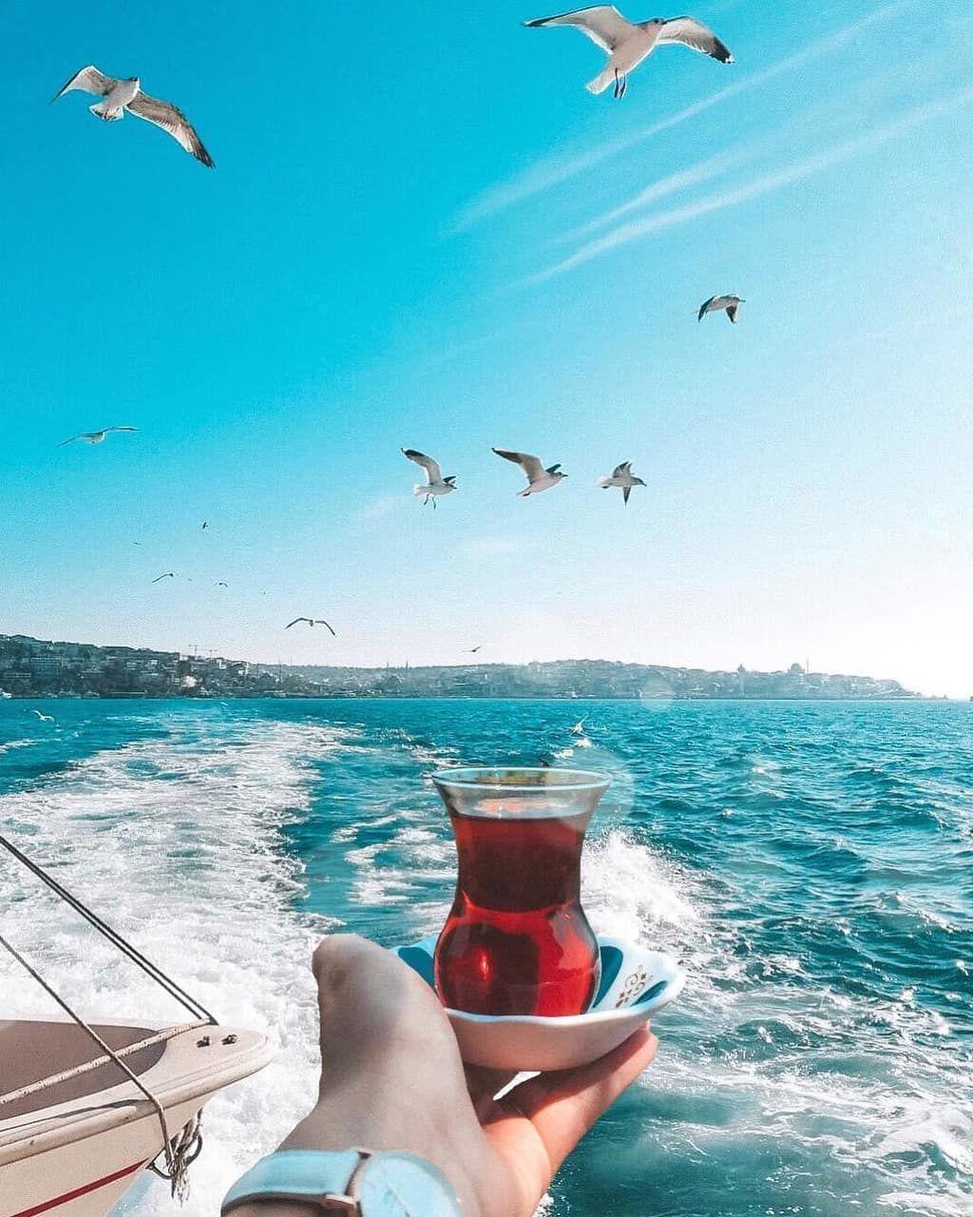glass-normal: (428, 764, 616, 1024)
